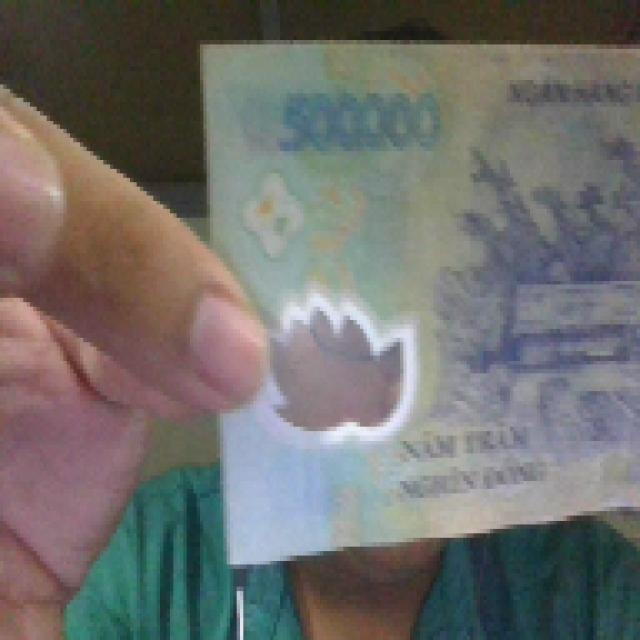500 000 VND: (193, 31, 637, 569)
